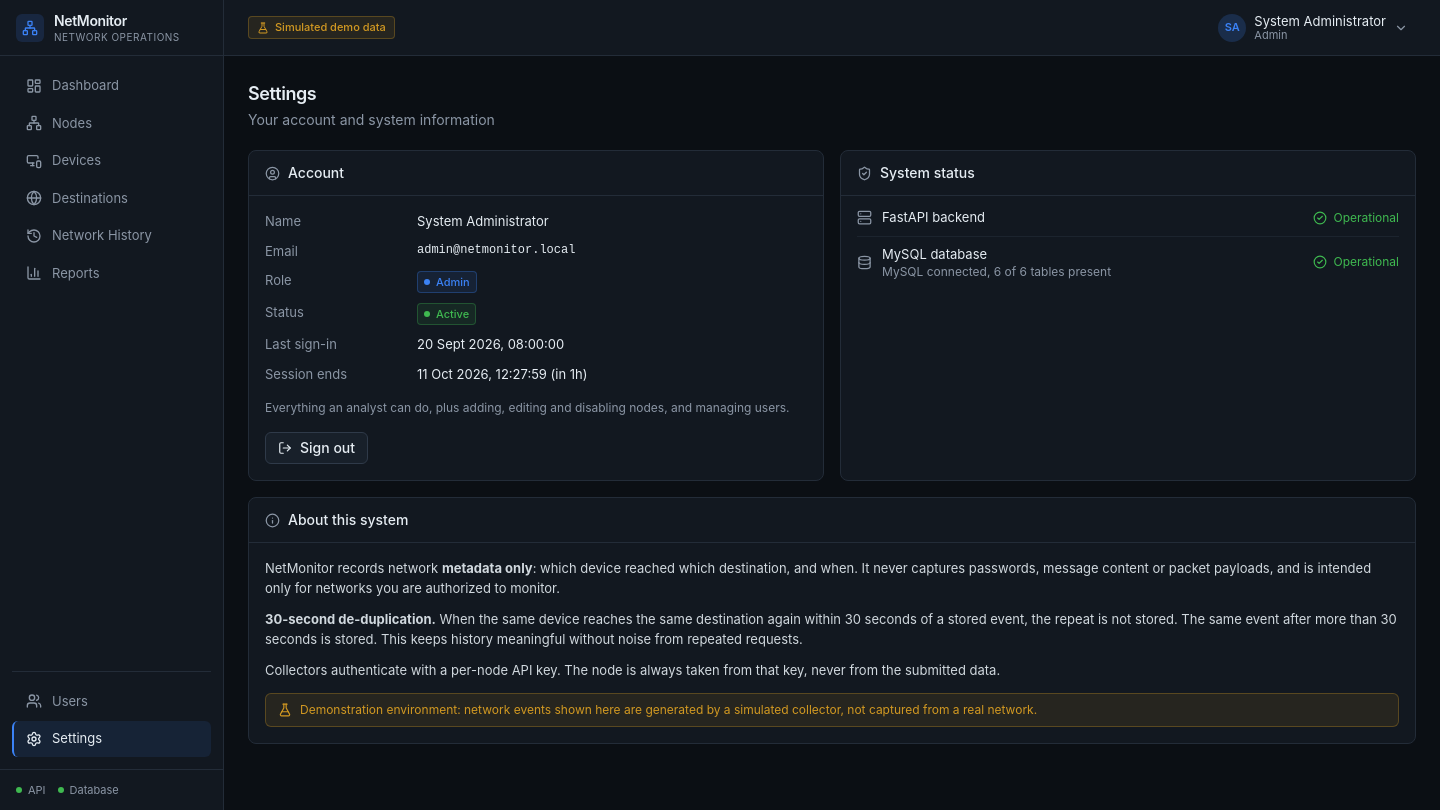
Test case: SettingsPage › signs out, clears the stored session and returns to login
The width and height of the screenshot is (1440, 810).
Click the button "Sign out".
click(316, 448)  # box 265,432 -> 368,464
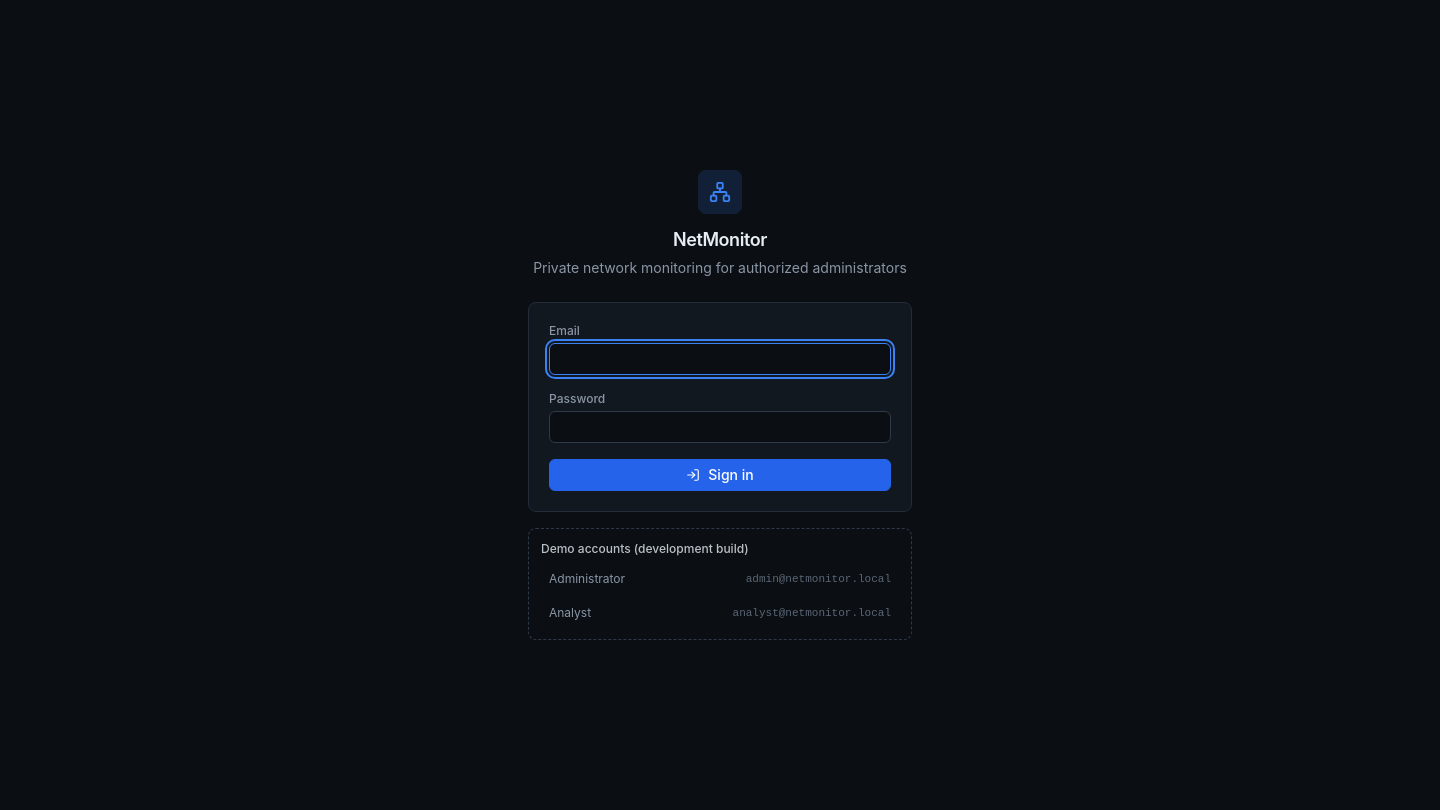
expect the button "Sign in" is shown: met, box 549,459 -> 891,491
